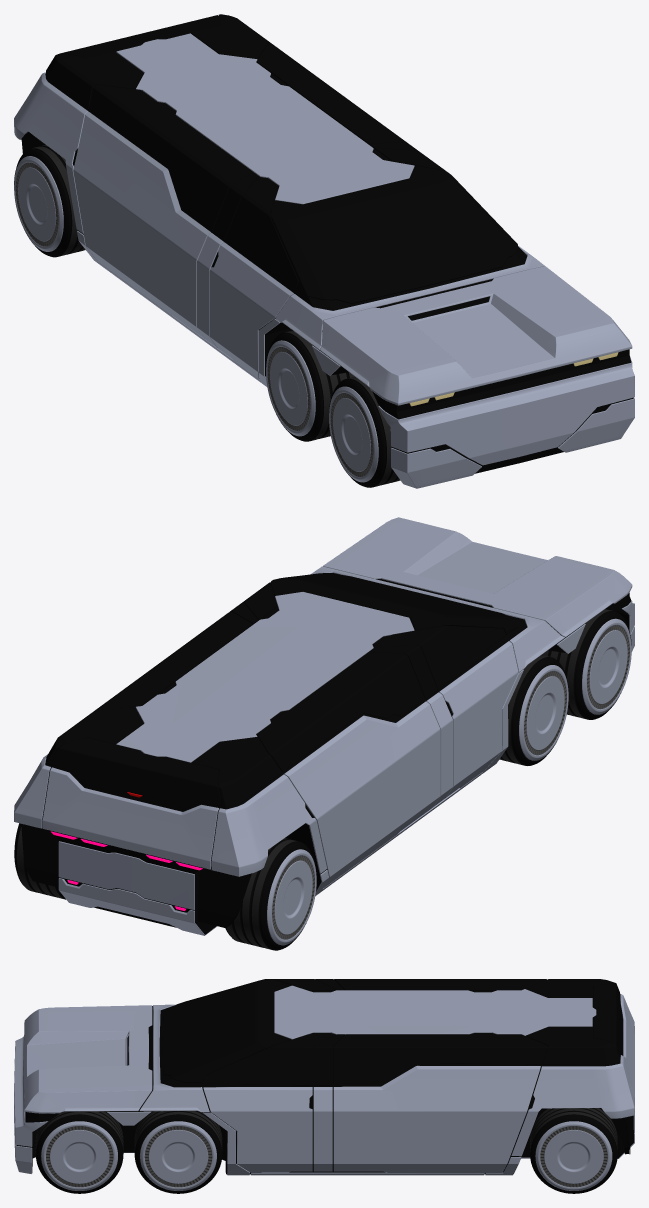
The model's file is SFV_030_01.fbx.
The picture shows the model from 3 angles, top to bottom: view 1: azimuth 30°, elevation 25°; view 2: azimuth 150°, elevation 25°; view 3: azimuth 270°, elevation 25°; orthographic projection. The views are drawn at different scales.
Visible parts, largest first — view 1: Cube.009, Cube.019, Cube.002, Cube.018, Cube.012, Cube.007, Cube, Cube.003, Cube.022, Cube.006, Cube.014, SFV_wheel_01.005|Plane.005|Dupli|4 (+16 smaller); view 2: Cube.002, Cube.018, Cube.009, Cube.012, Cube.001, Cube.014, Cube.021, Cube, Cube.003, Cube.019, Cube.022, Cube.016 (+21 smaller); view 3: Cube.012, Cube.018, Cube.002, Cube.009, Cube.019, Cube.003, Cube, Cube.014, Cube.022, Cube.007, SFV_wheel_01.002|Plane.005|Dupli|4, SFV_wheel_01.001|Plane.005|Dupli|4 (+21 smaller).
Boxes of the visible parts, x1,y1,x2,y2 form: Cube.009: (320, 266, 632, 405); Cube.019: (271, 166, 517, 303); Cube.002: (116, 33, 414, 204); Cube.018: (89, 43, 448, 287); Cube.012: (73, 111, 211, 338); Cube.007: (275, 246, 634, 465); Cube: (21, 16, 633, 473); Cube.003: (209, 242, 293, 378); Cube.022: (46, 14, 271, 108); Cube.006: (391, 397, 634, 488); Cube.014: (14, 72, 87, 233); SFV_wheel_01.005|Plane.005|Dupli|4: (18, 167, 56, 241); Cube.002: (116, 592, 414, 762); Cube.018: (93, 582, 505, 771); Cube.009: (323, 517, 632, 637); Cube.012: (284, 701, 440, 888); Cube.001: (42, 767, 219, 869); Cube.014: (14, 754, 326, 876); Cube.021: (52, 737, 220, 808); Cube: (42, 573, 631, 934); Cube.003: (439, 641, 518, 797); Cube.019: (271, 573, 517, 634); Cube.022: (46, 707, 282, 806); Cube.016: (58, 841, 194, 909); Cube.012: (333, 1065, 540, 1172); Cube.018: (203, 979, 546, 1085); Cube.002: (274, 985, 596, 1039); Cube.009: (23, 1005, 152, 1113); Cube.019: (162, 979, 291, 1082); Cube.003: (203, 1087, 312, 1172); Cube: (16, 986, 633, 1174); Cube.014: (511, 994, 634, 1156); Cube.022: (526, 979, 620, 1064); Cube.007: (14, 1004, 209, 1146); SFV_wheel_01.002|Plane.005|Dupli|4: (544, 1130, 603, 1183); SFV_wheel_01.001|Plane.005|Dupli|4: (148, 1130, 208, 1183).
Bounding box in the file's own units: 212 × 136 × 565.
